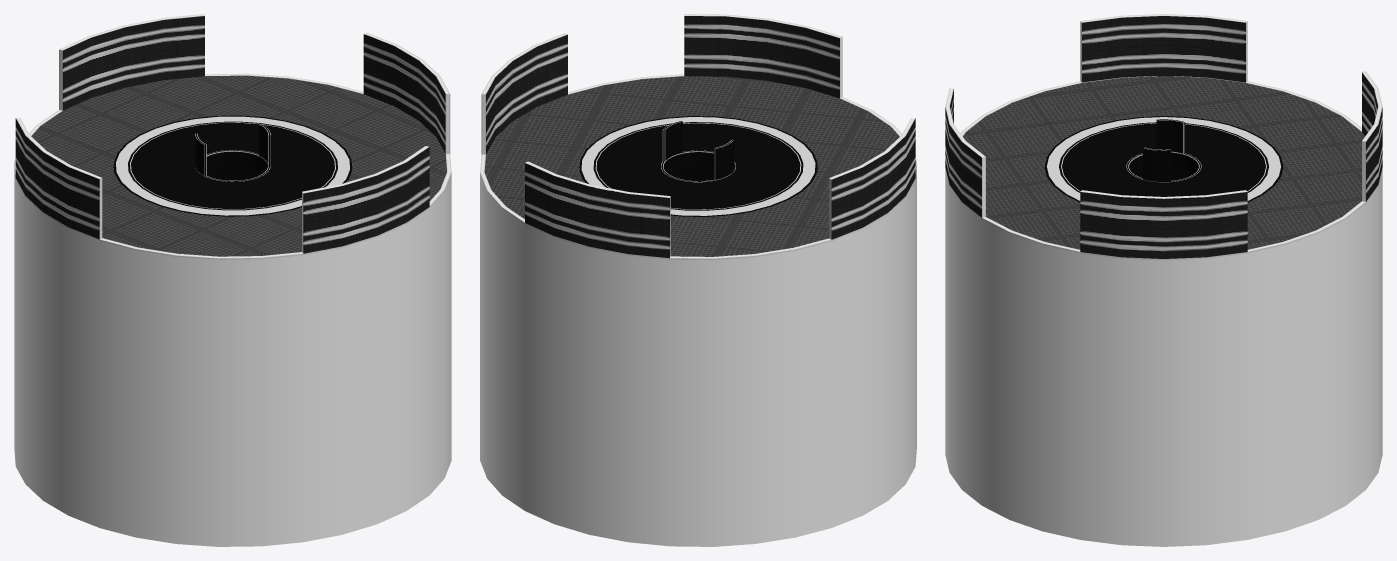
File: MoufLvl.fbx
3 views of the same model, side by side, from view 1: azimuth 30°, elevation 25°; view 2: azimuth 150°, elevation 25°; view 3: azimuth 270°, elevation 25° (orthographic).
Visible parts, largest first — view 1: CylindreJaune, CylindreRouge, CylindreBlanc; view 2: CylindreJaune, CylindreRouge, CylindreBlanc; view 3: CylindreJaune, CylindreRouge, CylindreBlanc.
Part boxes in pixels (<box>): CylindreJaune: <box>14,14,451,546</box>; CylindreRouge: <box>130,122,335,209</box>; CylindreBlanc: <box>113,115,352,216</box>; CylindreJaune: <box>480,14,916,546</box>; CylindreRouge: <box>595,120,801,209</box>; CylindreBlanc: <box>579,116,817,216</box>; CylindreJaune: <box>945,14,1382,546</box>; CylindreRouge: <box>1061,119,1266,198</box>; CylindreBlanc: <box>1044,116,1283,202</box>.
Bounding box in the file's own units: 16203 × 14228 × 16203.
Materials: 4 (2 with a texture image).
